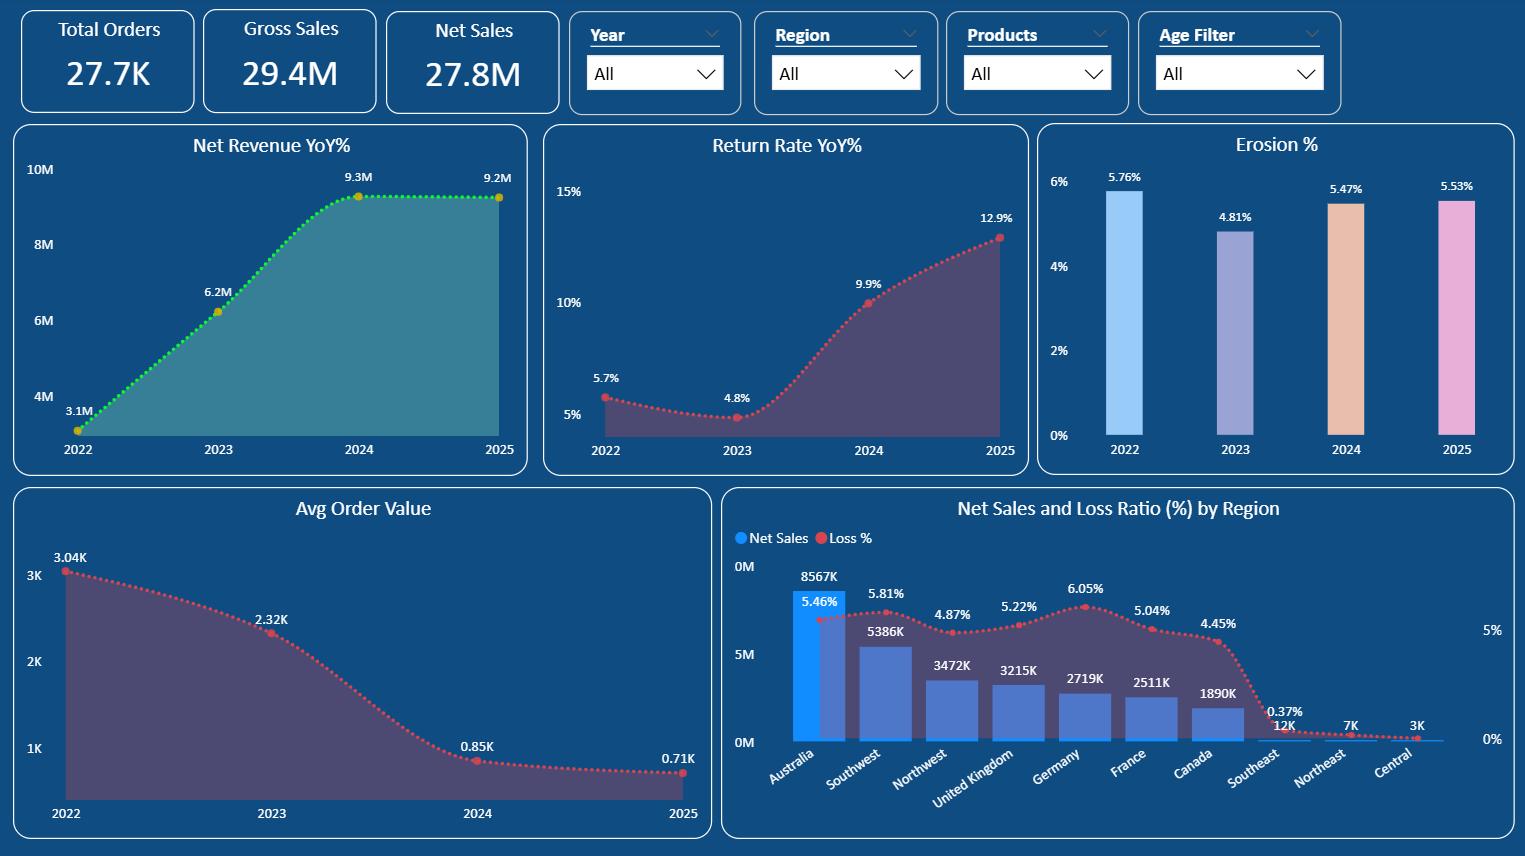

This screenshot's page, from the dashboard's own definition file:
{"tool":"powerbi","page":{"name":"📌 Executive Overview","canvas":[1280,720],"ordinal":0},"visuals":[{"type":"card","title":"Gross Sales","fields":{"Values":["Calculation group.Gross Sales"]},"box":[172.4,9.9,145.4,87.1],"z":0},{"type":"card","title":"Total Orders","fields":{"Values":["Calculation group.Total Order"]},"box":[19.8,10.8,145.4,86.2],"z":1000},{"type":"lineClusteredColumnComboChart","title":"Erosion %","fields":{"Category":["Dates.Year"],"Y":["Calculation group.Erosion %"]},"box":[869,105,398.6,294.5],"z":2000},{"type":"card","title":"Net Sales","fields":{"Values":["Calculation group.Net Sales"]},"box":[325,11.7,145.4,86.2],"z":3000},{"type":"stackedAreaChart","title":"Avg Order Value","fields":{"Category":["Dates.Year"],"Y":["Calculation group.AOV"]},"box":[13.5,409.4,583.5,294.5],"z":4000},{"type":"slicer","fields":{"Values":["Dates.Year"]},"box":[477.6,11.7,143.6,87.1],"z":5000},{"type":"areaChart","title":"Return Rate YoY%","fields":{"Y":["Calculation group.Return Rate"],"Category":["Dates.Year"]},"box":[456.1,105.9,405.8,294.5],"z":6000},{"type":"lineStackedColumnComboChart","title":"Net Sales  and Loss Ratio (%) by Region","fields":{"Category":["Sales Territory.Sales Territory Region"],"Y":["Calculation group.Net Sales"],"Y2":["Calculation group.Loss %"]},"box":[605.1,409.4,662.5,294.5],"z":7000},{"type":"areaChart","title":"Net Revenue YoY%","fields":{"Category":["Dates.Year"],"Y":["Calculation group.Net Sales"]},"box":[13.5,105.9,430,293.6],"z":8000},{"type":"slicer","fields":{"Values":["Temperature.Region"]},"box":[632,11.7,154.4,87.1],"z":9000},{"type":"slicer","fields":{"Values":["Customers.Age Breakdown"]},"box":[953.4,11.7,169.7,87.1],"z":10000},{"type":"slicer","fields":{"Values":["Products.Product Class Label"]},"box":[792.7,11.7,152.6,87.1],"z":11000}]}

Visuals, with their boxes in screenshot pixels (x1, y1, x2, y2), scaled from the page's 1280x720 canvas onto the 1525x856 screenshot:
"Gross Sales" card: [205,12,379,115]
"Total Orders" card: [24,13,197,115]
"Erosion %" lineClusteredColumnComboChart: [1035,125,1510,475]
"Net Sales" card: [387,14,560,116]
"Avg Order Value" stackedAreaChart: [16,487,711,837]
slicer - Dates.Year: [569,14,740,117]
"Return Rate YoY%" areaChart: [543,126,1027,476]
"Net Sales  and Loss Ratio (%) by Region" lineStackedColumnComboChart: [721,487,1510,837]
"Net Revenue YoY%" areaChart: [16,126,528,475]
slicer - Temperature.Region: [753,14,937,117]
slicer - Customers.Age Breakdown: [1136,14,1338,117]
slicer - Products.Product Class Label: [944,14,1126,117]
